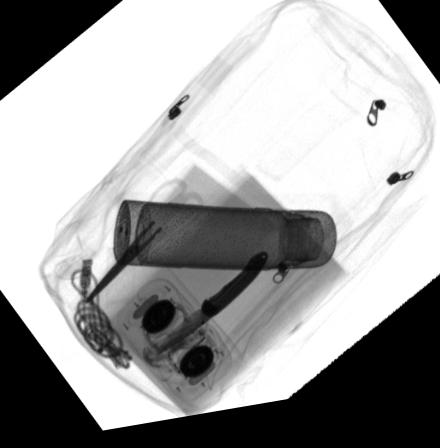Knife: (156, 261, 270, 359)
Scissors: (83, 182, 206, 306)
